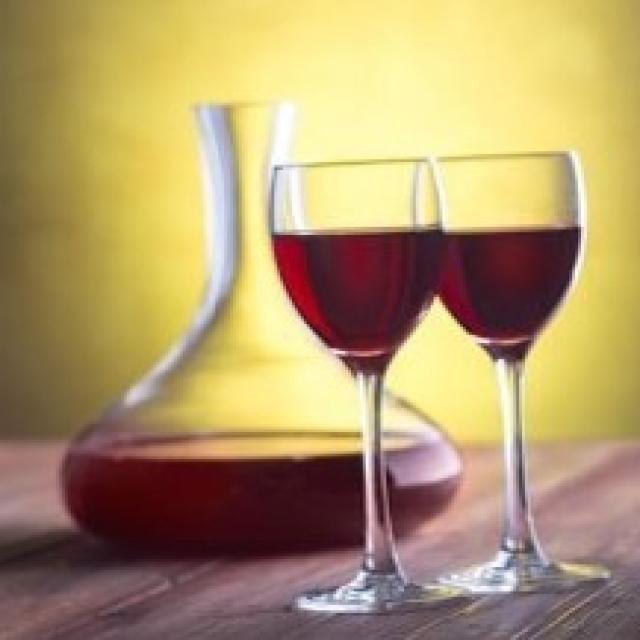electronic: (52, 106, 472, 565), (257, 147, 623, 623)
